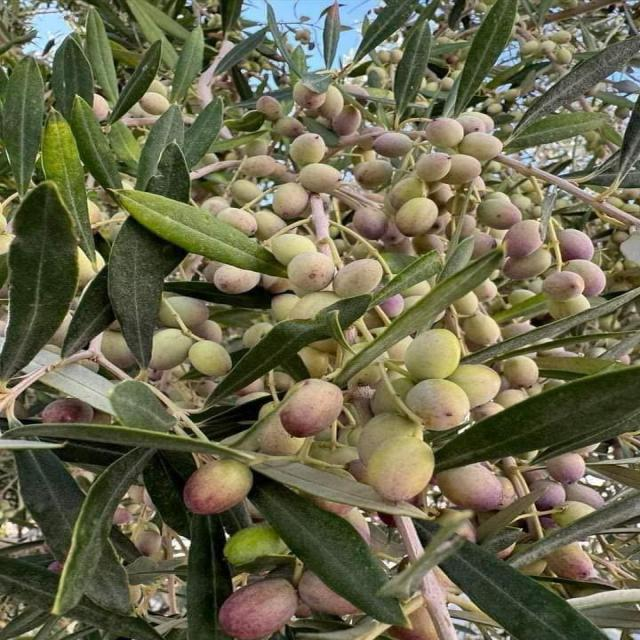Healthy: (220, 578, 296, 639), (362, 437, 434, 501), (183, 460, 252, 515), (279, 379, 342, 437), (405, 379, 468, 429), (404, 329, 460, 380), (288, 251, 336, 291), (333, 259, 382, 298), (188, 339, 231, 378), (395, 197, 437, 236), (289, 133, 326, 168), (506, 221, 541, 257), (297, 164, 340, 193), (458, 133, 501, 161), (426, 119, 463, 149), (414, 153, 451, 181), (373, 131, 412, 157)
